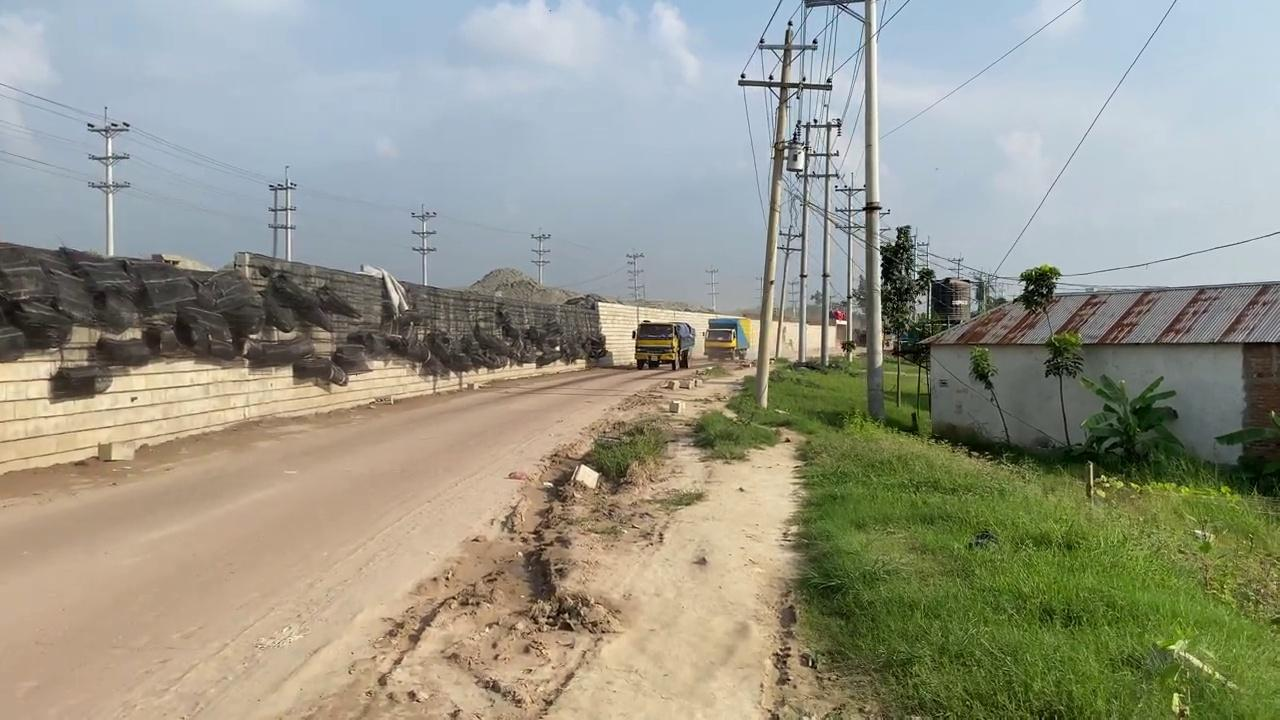Obstacle: (569, 462, 600, 489)
Pole: (737, 21, 830, 408), (862, 0, 885, 421)
Rickshaw: (535, 363, 826, 718)
Traffic-sign: (849, 223, 936, 341), (1078, 371, 1181, 466), (1042, 328, 1085, 449), (1011, 263, 1061, 315)
Tree: (631, 319, 694, 370), (702, 316, 751, 360)
Upstairs: (0, 240, 608, 478)
